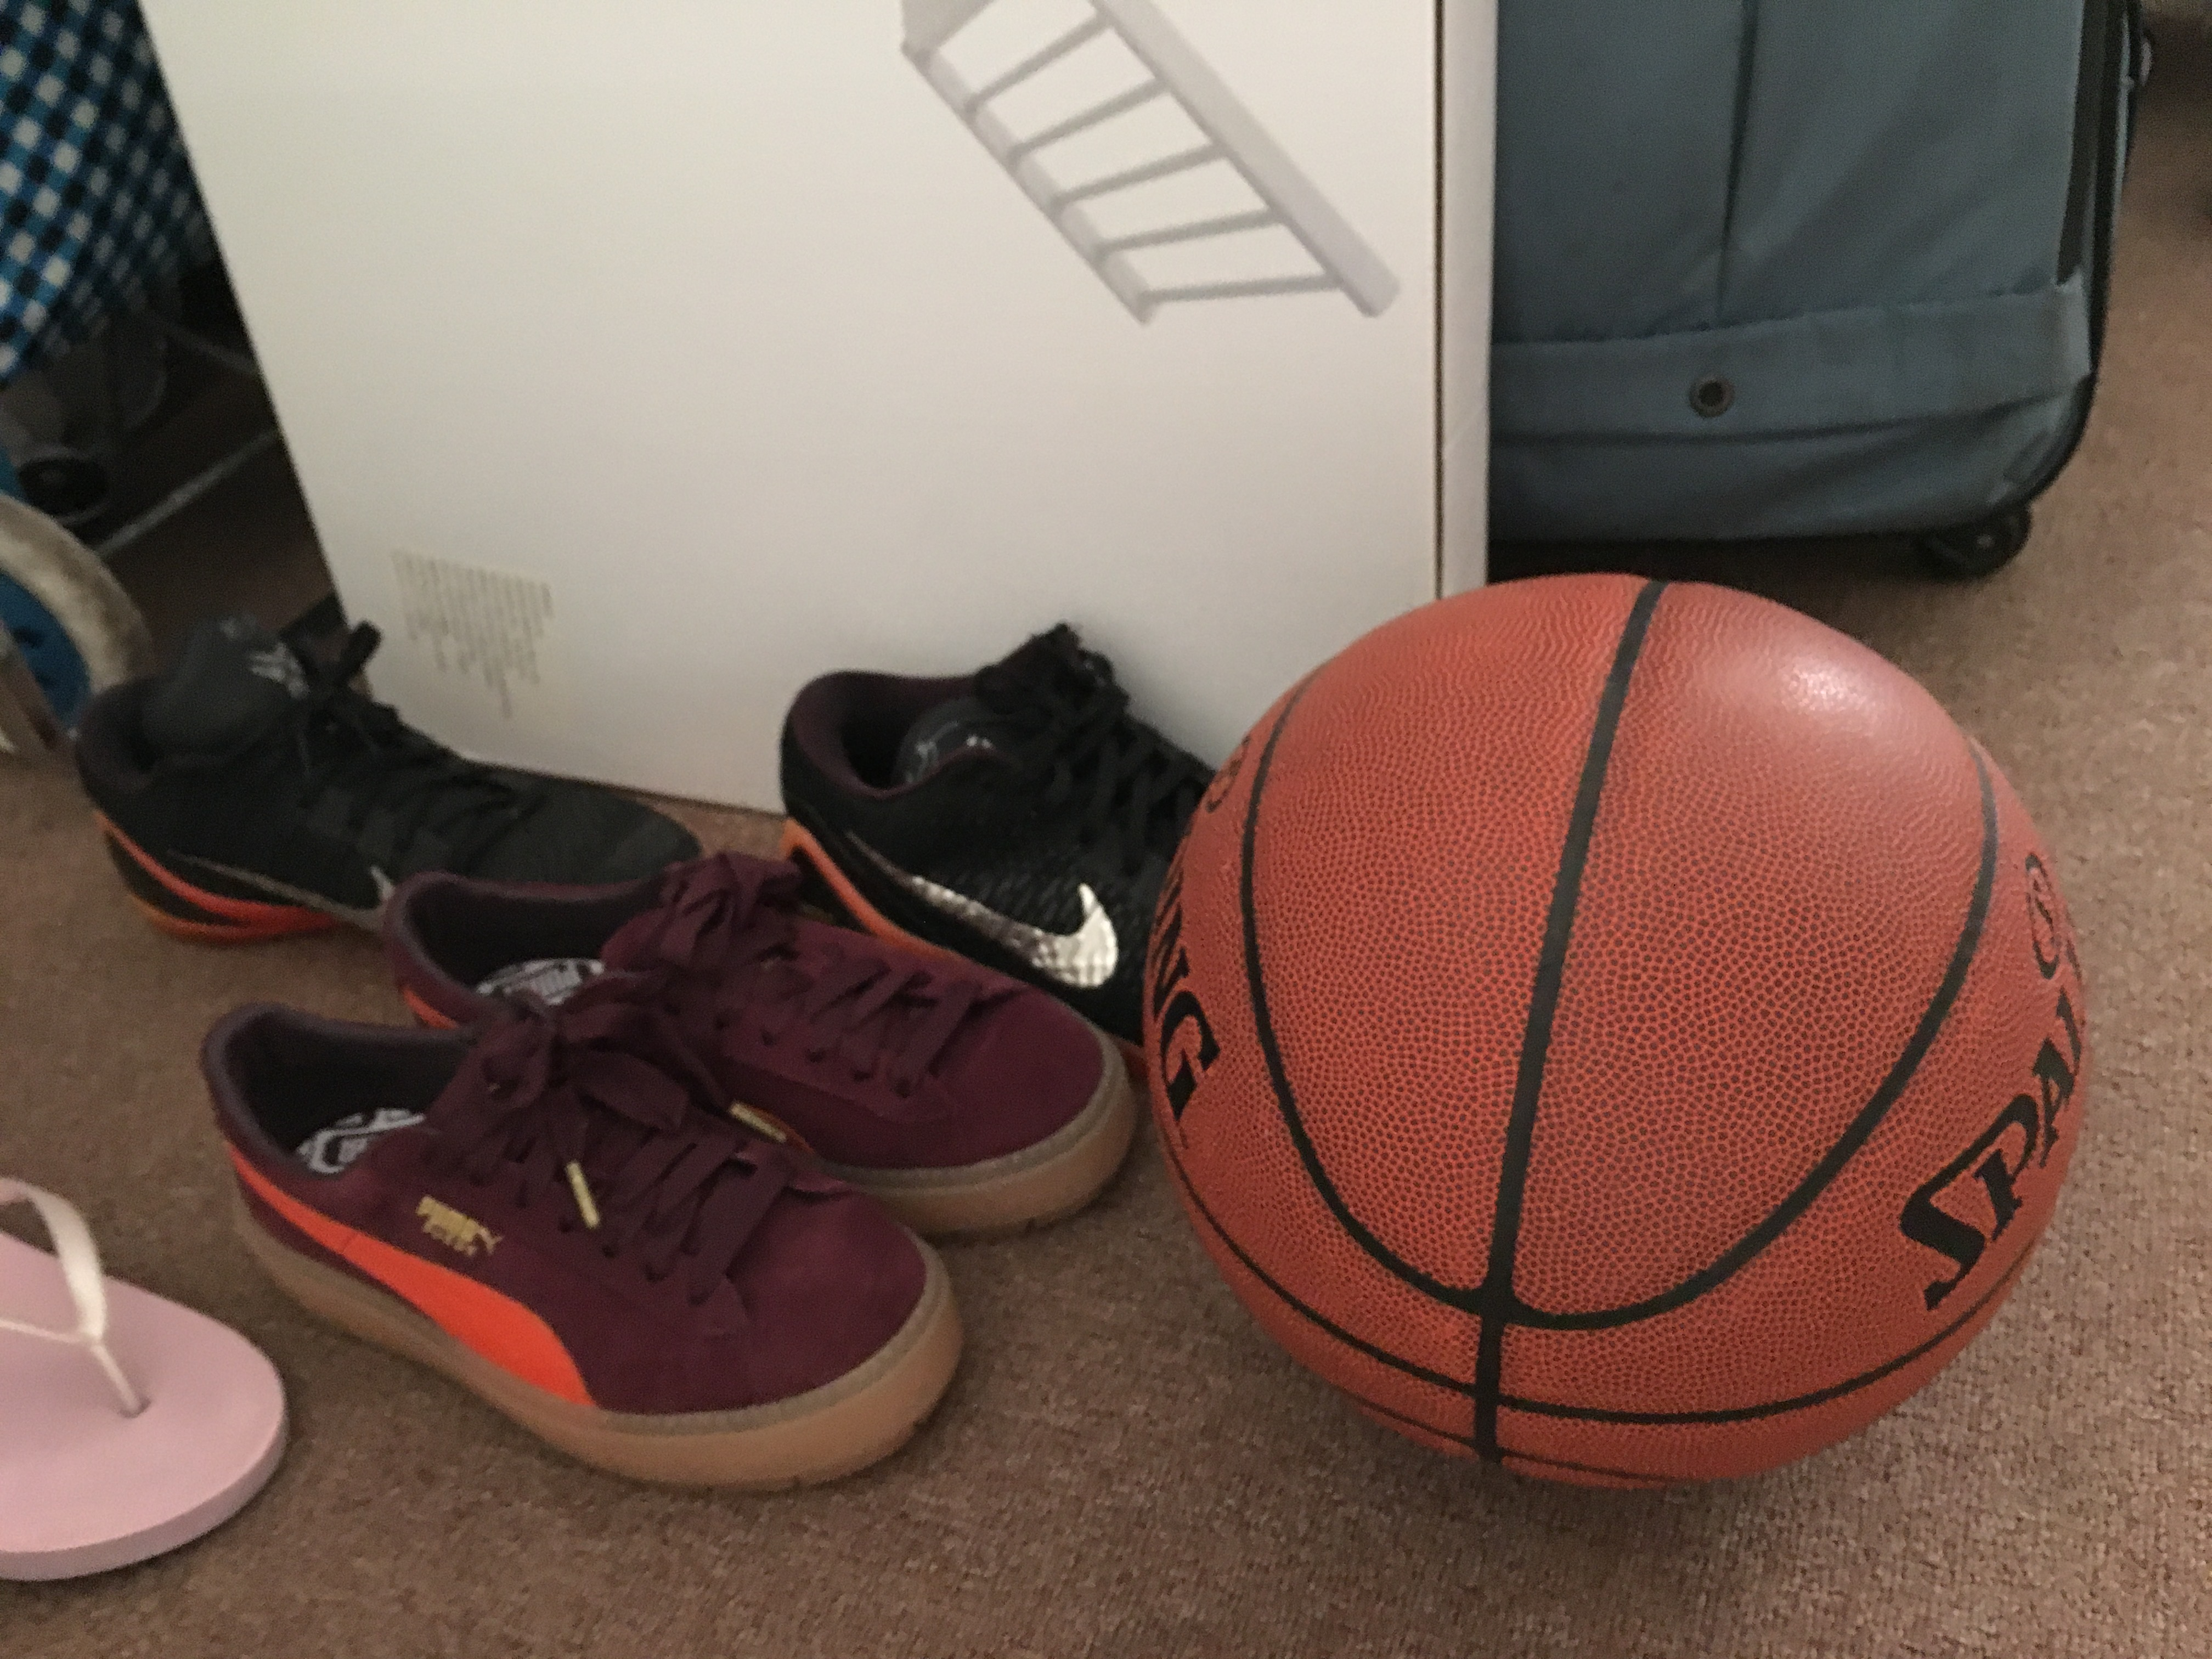Basketball: (1125, 566, 2097, 1516)
